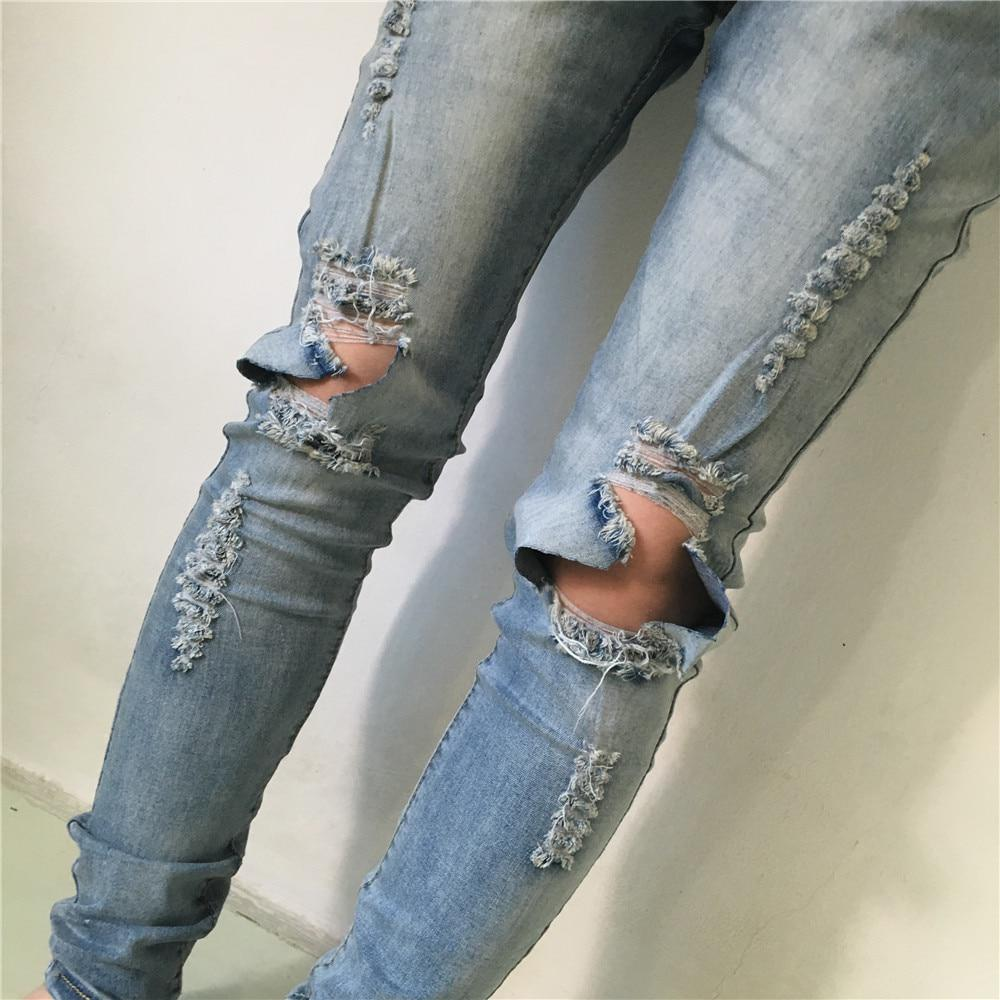jeans: (36, 1, 1000, 973), (174, 706, 592, 1000)
